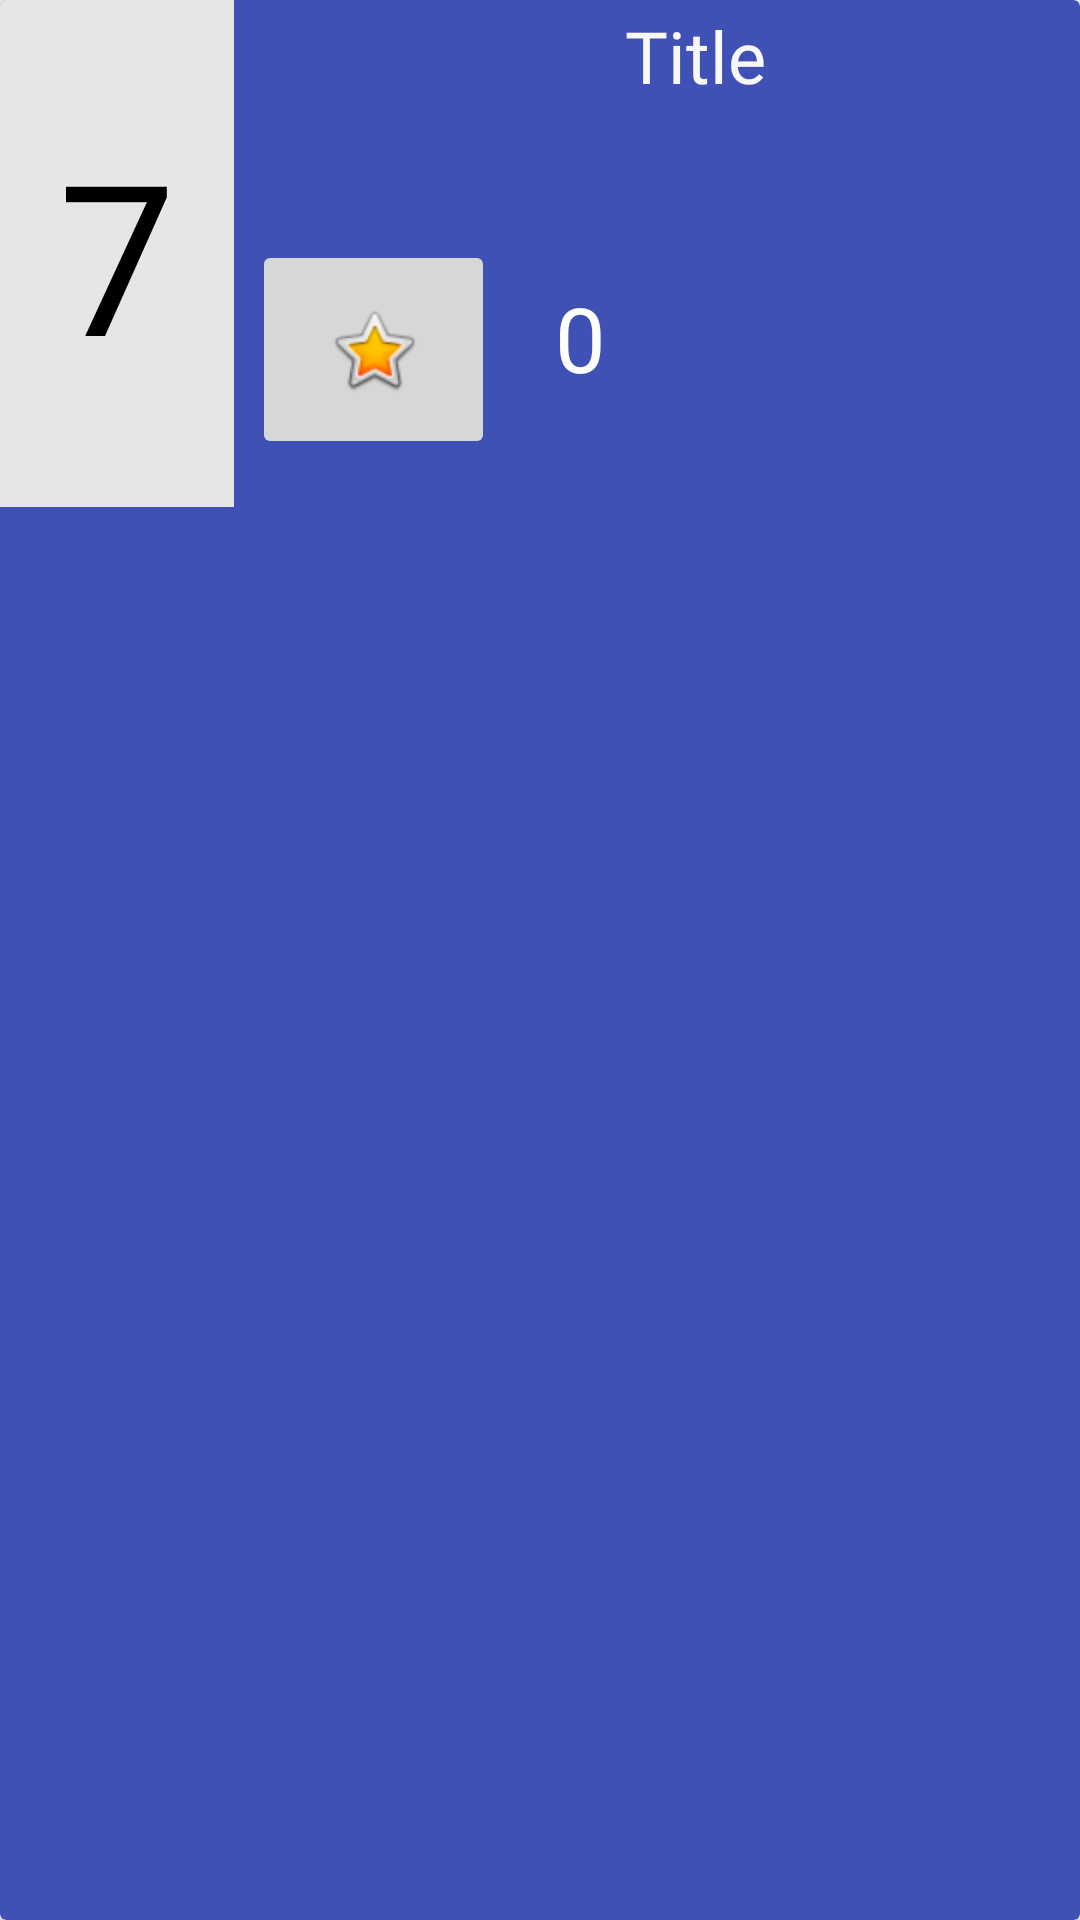

Named icons in this screenshot (1080*1920) and their centers, (x=x, y=y):
star on: (x=373, y=349)
